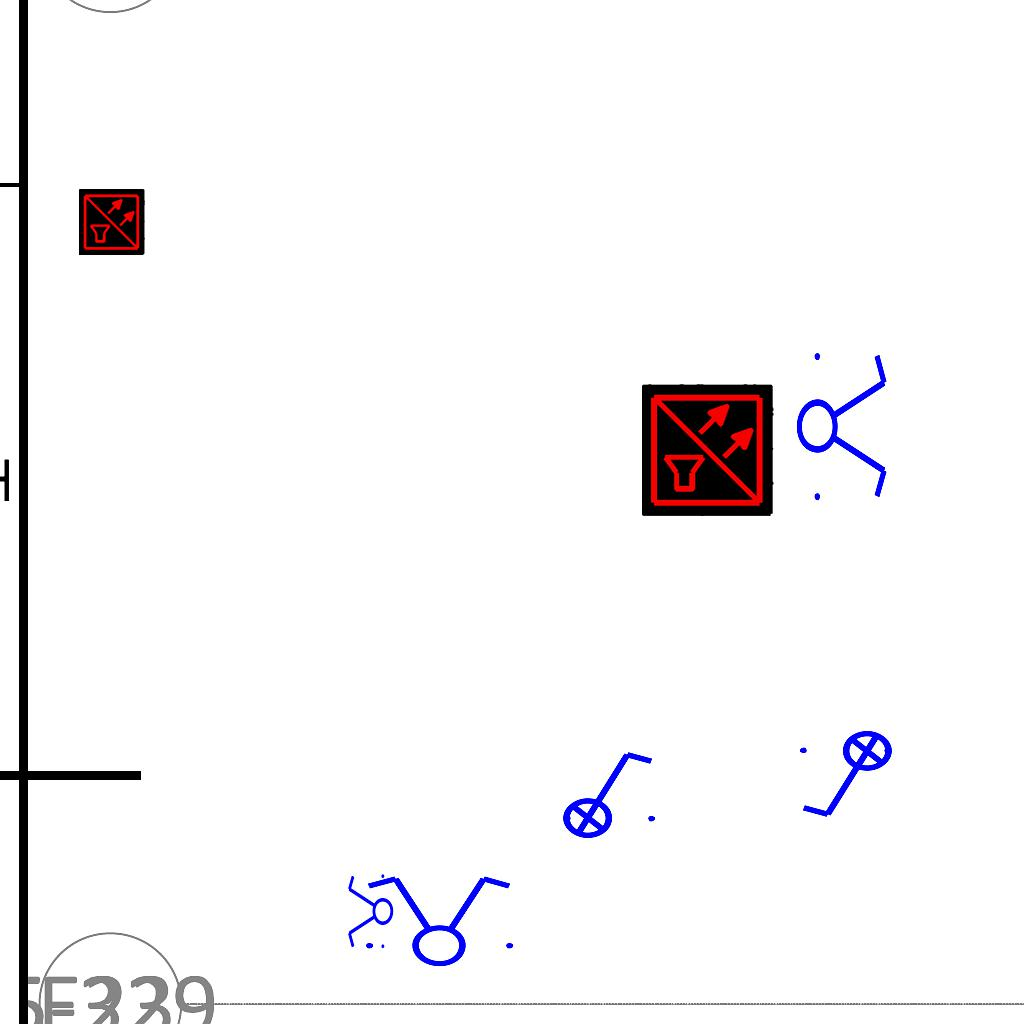Ausschalter_beleuchtet: (549, 744, 661, 840), (794, 729, 906, 825)
OKW_Multisensormelder_(Kombination_optischer_Rauch-Kahlenmonoxid_Waerme-Melder): (642, 384, 774, 516), (79, 189, 145, 255)
Serienschalter: (795, 341, 891, 509), (354, 872, 522, 968), (346, 870, 394, 954)
